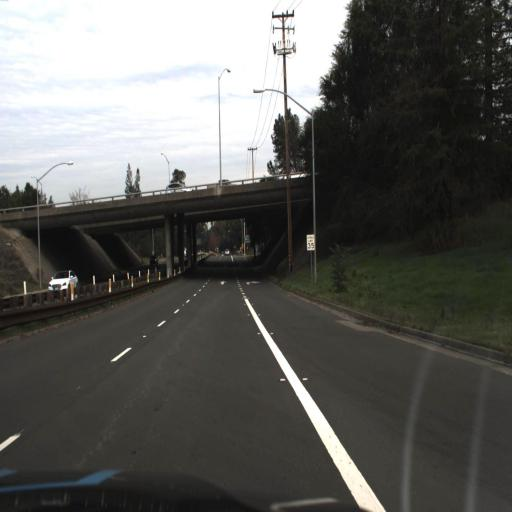car: (162, 179, 195, 195)
